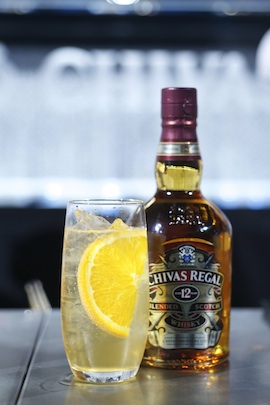Chivas Regal: (125, 83, 236, 377)
